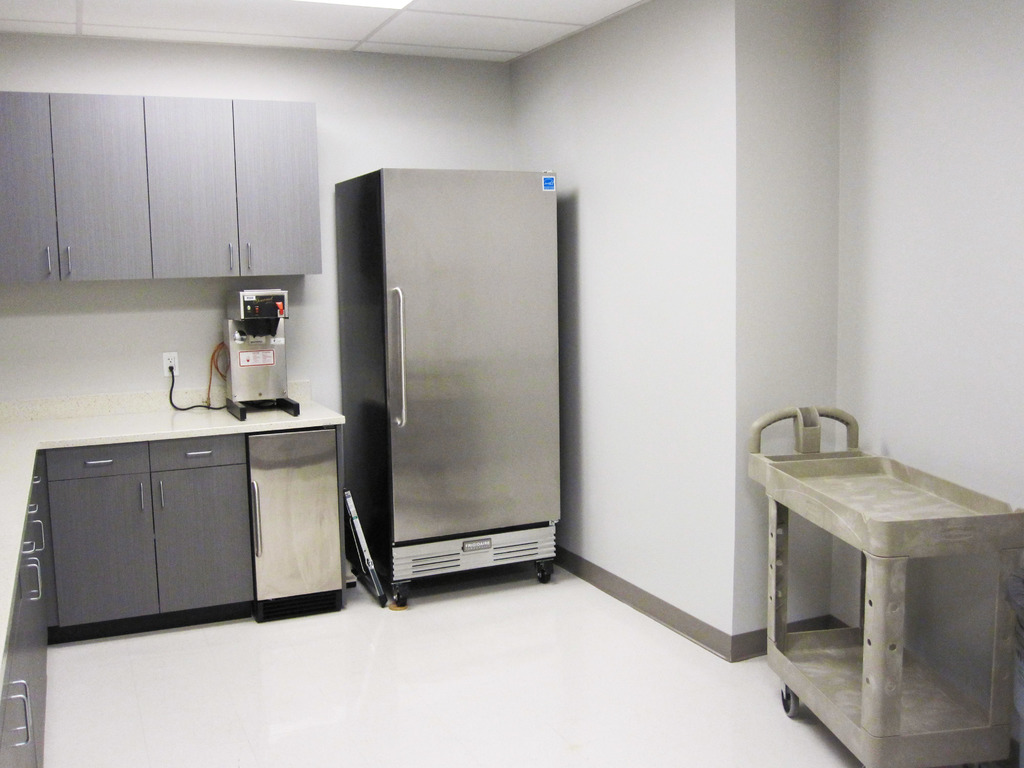cabinet door: (51, 101, 139, 276), (146, 106, 235, 275), (151, 477, 248, 607), (55, 484, 151, 613), (238, 110, 308, 279), (6, 95, 61, 279), (0, 681, 42, 763), (10, 631, 45, 722), (155, 443, 253, 470), (45, 451, 143, 468)
handle: (386, 286, 413, 422), (249, 482, 270, 562), (10, 685, 29, 752), (30, 514, 51, 567), (14, 674, 33, 726), (28, 553, 46, 605), (40, 240, 59, 285), (26, 557, 40, 609), (241, 237, 259, 273), (60, 234, 74, 278), (86, 452, 119, 468), (20, 498, 40, 521), (222, 238, 235, 273), (134, 479, 146, 516), (13, 539, 35, 559), (153, 473, 163, 509), (184, 449, 217, 459), (30, 474, 44, 486)
refrigerator door: (383, 158, 564, 537)
